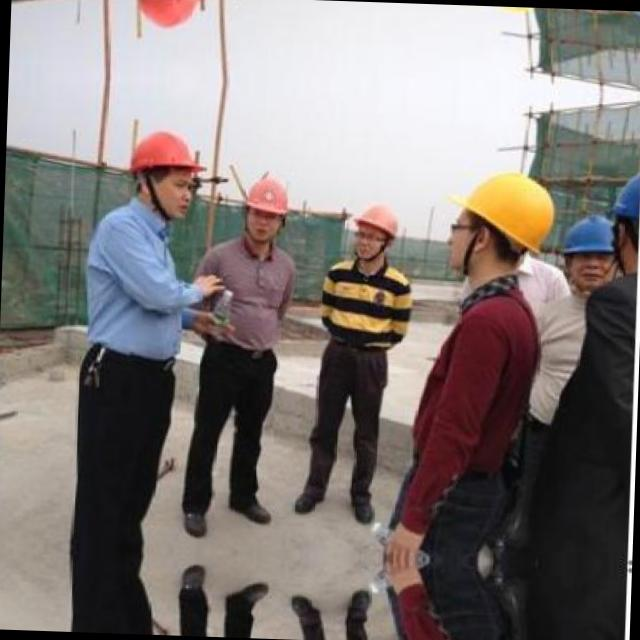helmet: (439, 163, 559, 285), (122, 127, 202, 215), (552, 215, 624, 305), (235, 167, 296, 247), (607, 166, 640, 281), (350, 197, 400, 262), (128, 0, 207, 31)
